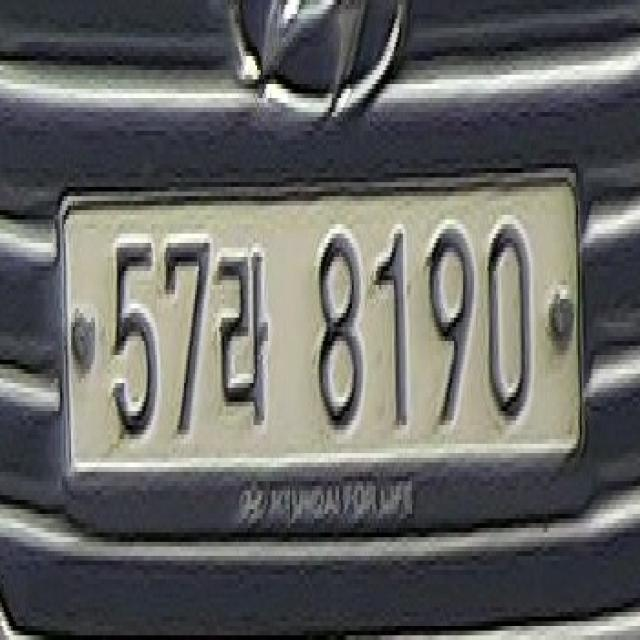plat: (52, 163, 592, 534)
